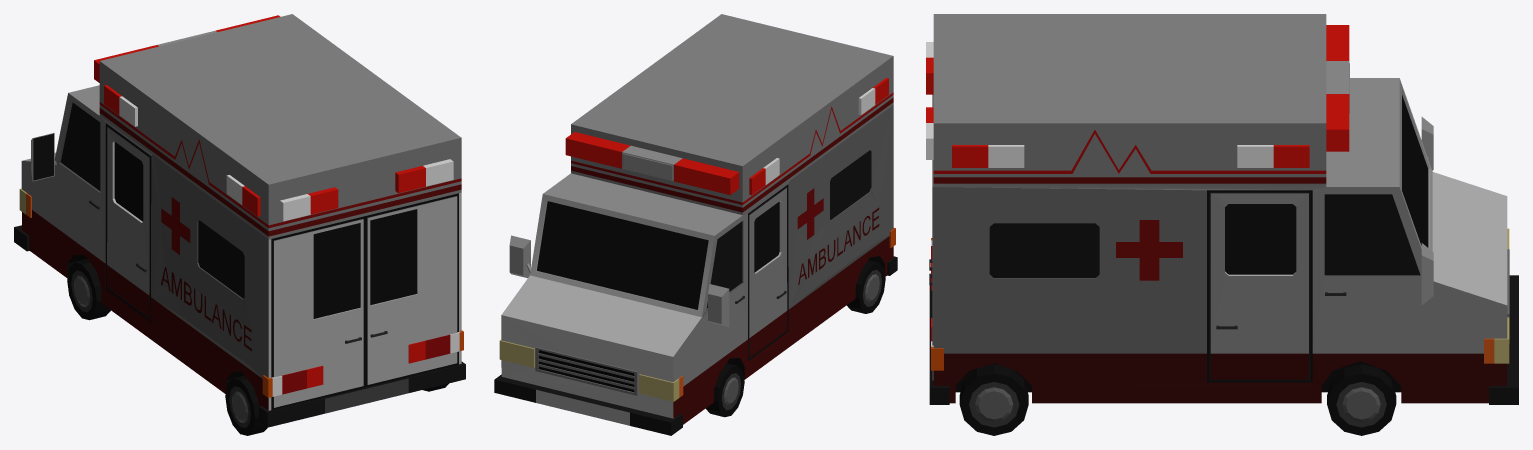
Rendered from ambulance.FBX.
3 renders of one model, left to right at view 1: azimuth 30°, elevation 25°; view 2: azimuth 150°, elevation 25°; view 3: azimuth 270°, elevation 25°, orthographic. The views are drawn at different scales.
Parts seen in each view (by area): view 1: Amb; view 2: Amb; view 3: Amb.
Part boxes in pixels (<box>): Amb: <box>14,14,465,435</box>; Amb: <box>494,14,897,435</box>; Amb: <box>926,14,1518,435</box>.
Bounding box in the file's own units: 3.44 × 3.6 × 6.21.
